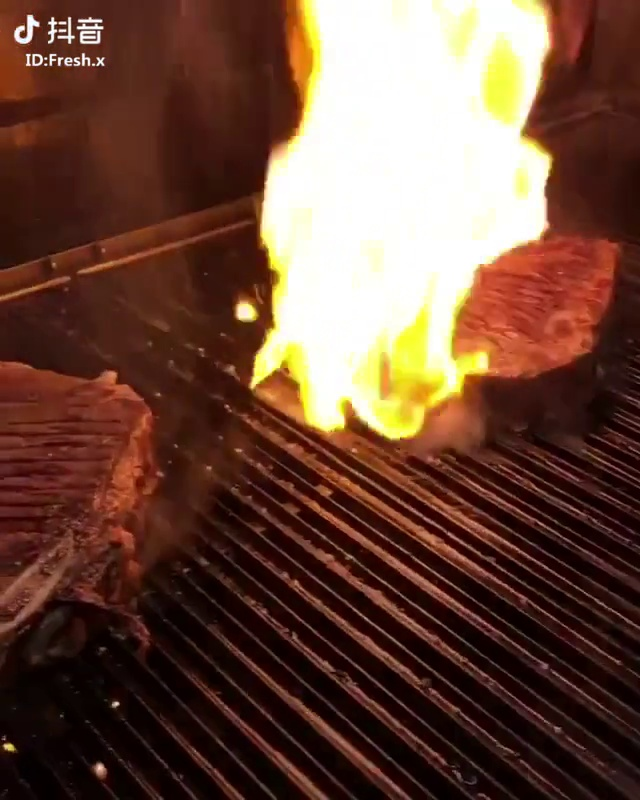fire: (240, 3, 513, 410)
